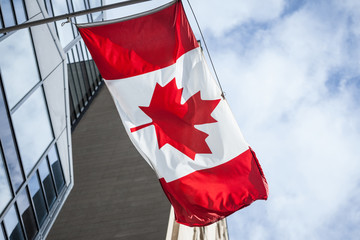Canada flag: (76, 1, 272, 227)
